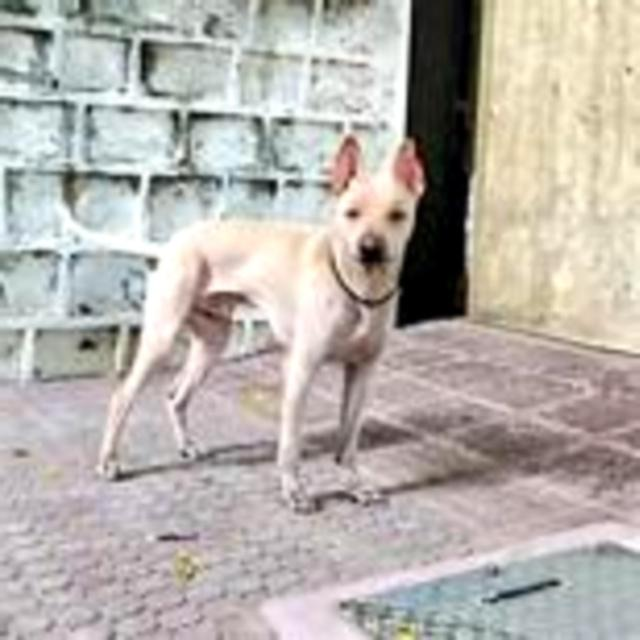dog: (9, 141, 417, 564)
